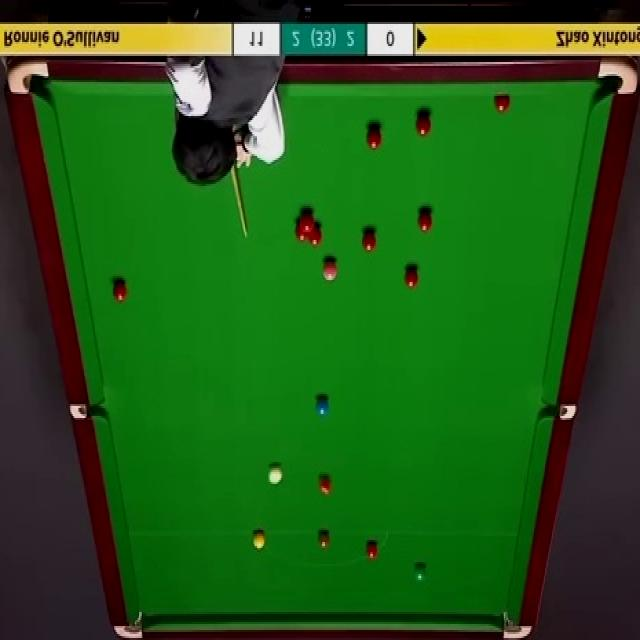pocket: (7, 57, 49, 95), (598, 58, 638, 97), (111, 609, 142, 640), (502, 609, 532, 640), (68, 403, 107, 420), (541, 403, 575, 420)
